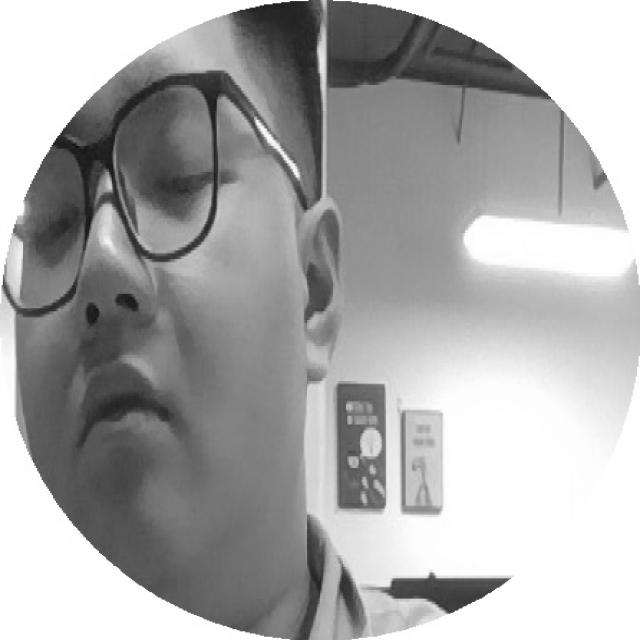real: (14, 24, 291, 565), (2, 143, 242, 278)
